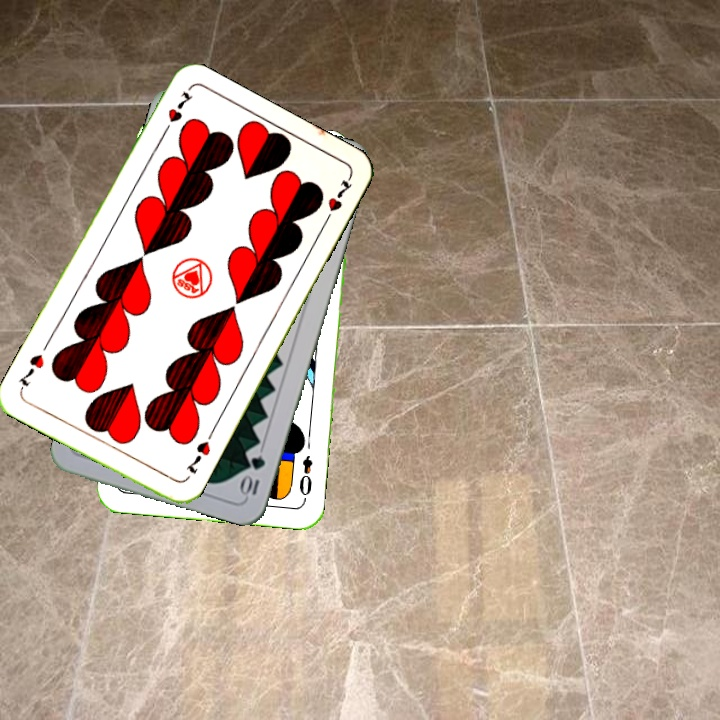EO: (295, 451, 315, 504)
G10: (238, 452, 268, 500)
H7: (158, 87, 195, 139), (181, 437, 213, 476)
